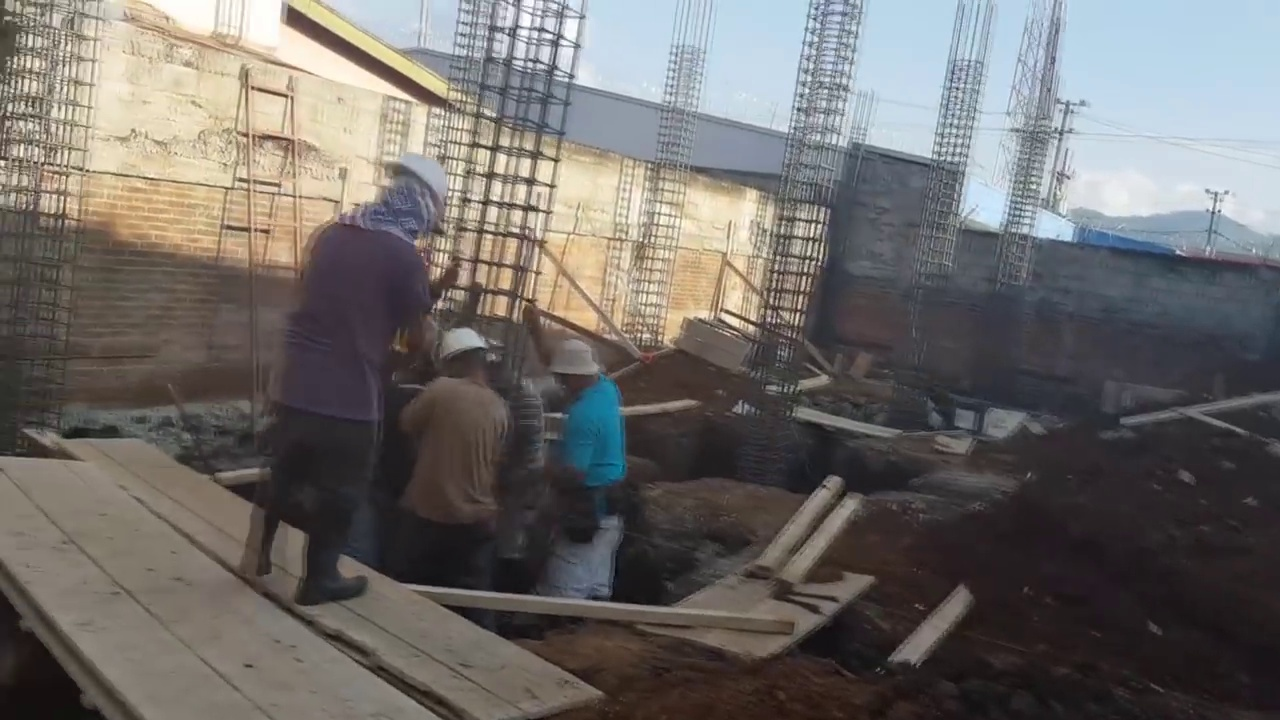helmet: (382, 154, 450, 216), (438, 325, 490, 363)
helmet-off: (543, 337, 605, 407)
helmet-on: (366, 154, 450, 247), (437, 326, 495, 381)
person: (234, 154, 450, 608), (398, 324, 511, 587), (542, 336, 628, 602)
